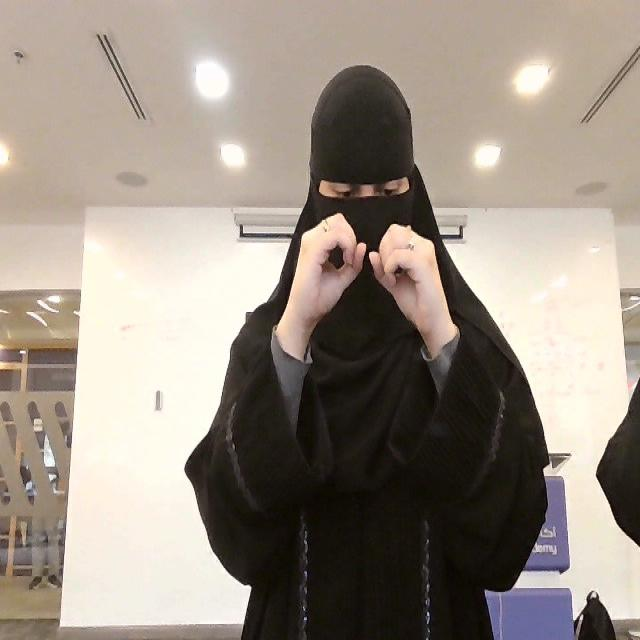analysis: (283, 210, 458, 332)
